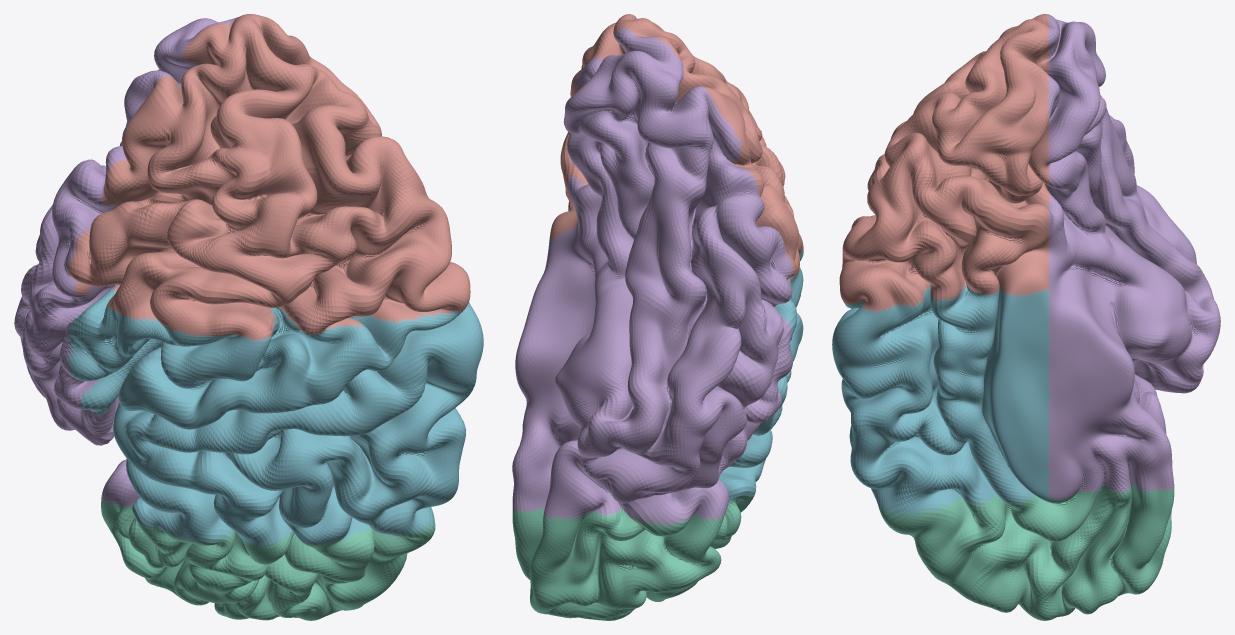
The model's file is bigbrain-right.glb.
3 renders of one model, left to right at view 1: azimuth 30°, elevation 25°; view 2: azimuth 150°, elevation 25°; view 3: azimuth 270°, elevation 25°, orthographic. The views are drawn at different scales.
Parts seen in each view (by area): view 1: STL generated by MeshLab; view 2: STL generated by MeshLab; view 3: STL generated by MeshLab.
Part boxes in pixels (x1=…): STL generated by MeshLab: x1=14, y1=14, x2=483, y2=620; STL generated by MeshLab: x1=512, y1=14, x2=803, y2=620; STL generated by MeshLab: x1=832, y1=14, x2=1220, y2=620.
Bounding box in the file's own units: 0.9645 × 1.8 × 1.1.
